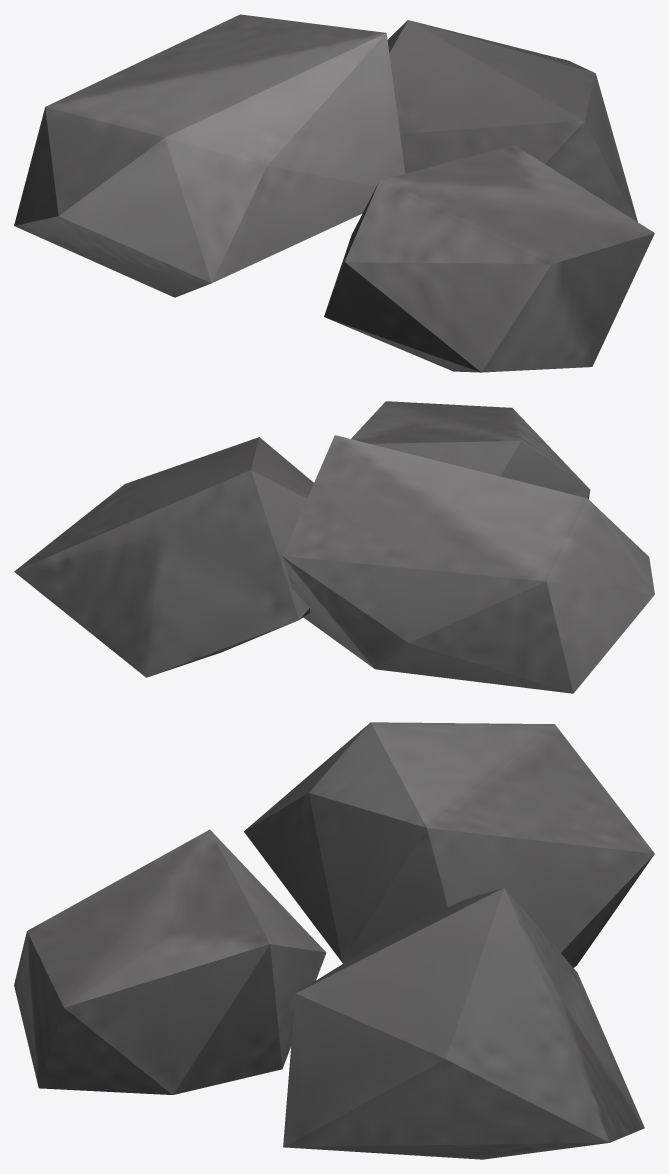
File: calcite.glb
3 renders of one model, top to bottom at view 1: azimuth 30°, elevation 25°; view 2: azimuth 150°, elevation 25°; view 3: azimuth 270°, elevation 25°, orthographic. The views are drawn at different scales.
Parts seen in each view (by area): view 1: calcite; view 2: calcite; view 3: calcite.
Boxes of the visible parts, <box> form: calcite: <box>14,14,654,372</box>; calcite: <box>14,401,654,693</box>; calcite: <box>14,722,654,1159</box>.
Bounding box in the file's own units: 0.2648 × 0.091 × 0.2182.
1 material, 1 textured.
